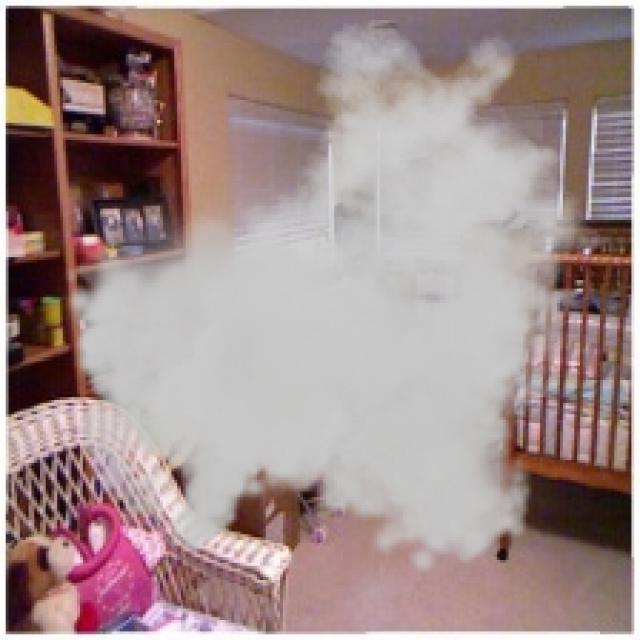Smoke: (62, 17, 628, 577)
